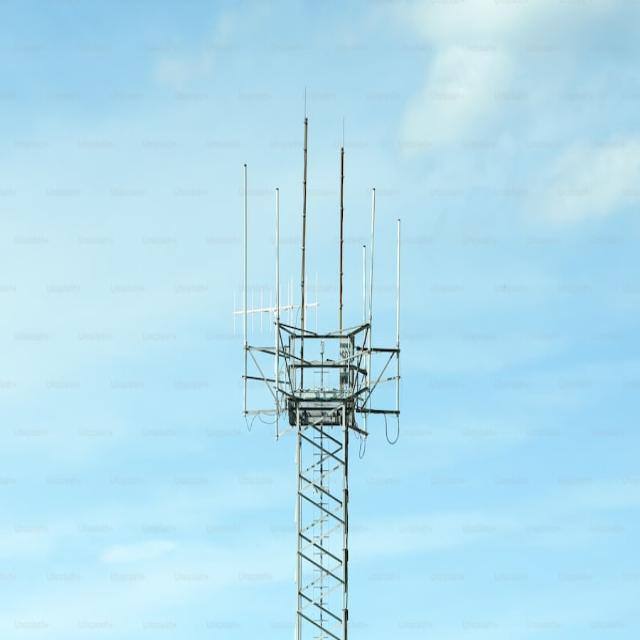transmission tower: (170, 151, 452, 640)
